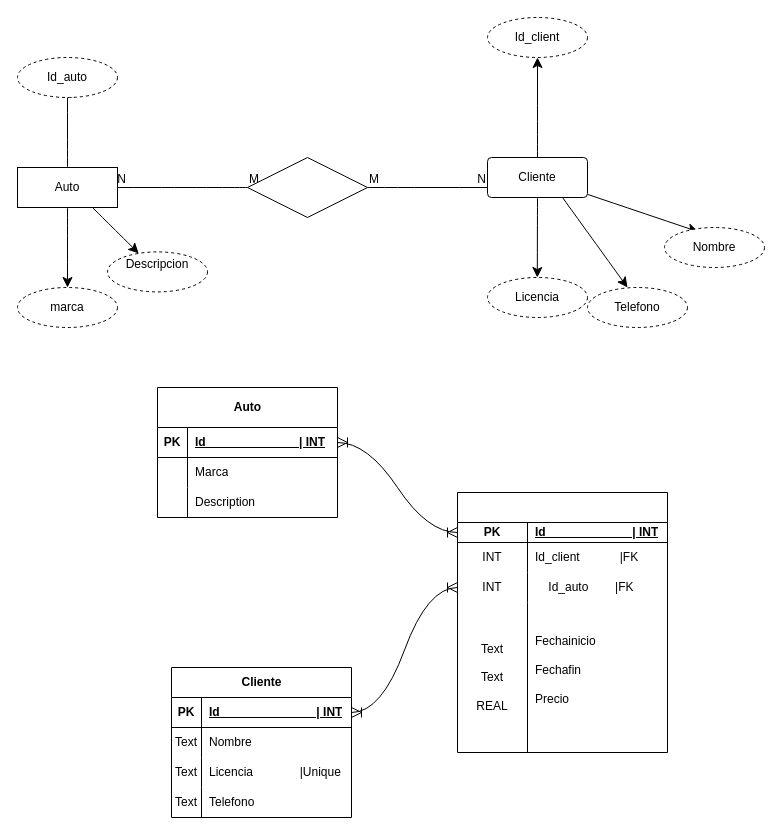
This 782x835 diagram has some shape labels left out. Here are the shapes that lost their labels. From the top down, the box of each, then its label:
(246, 156, 368, 218): TIenen
(456, 492, 668, 752): Alquiler
